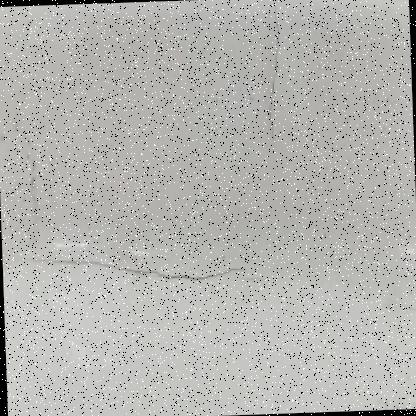Crack: (5, 202, 264, 307), (244, 0, 291, 167)
